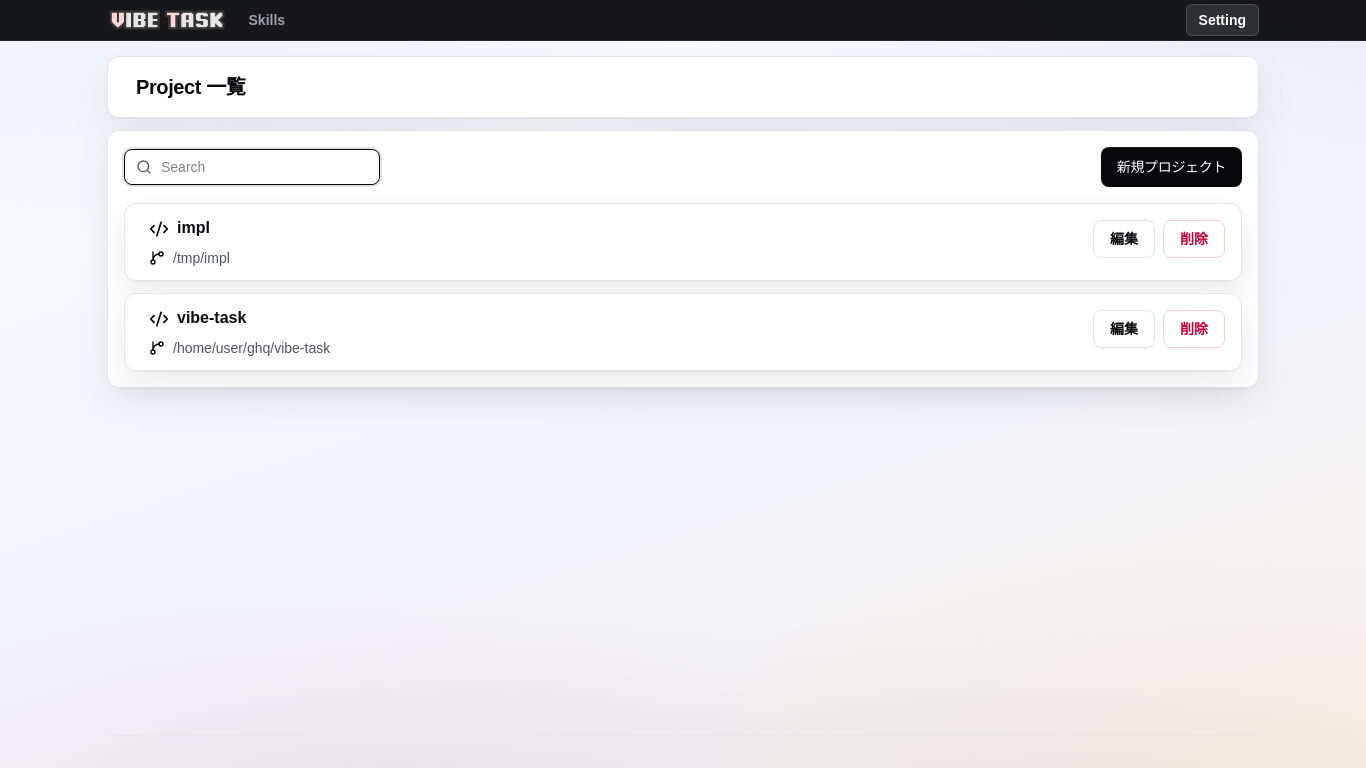
filters project list incrementally by search query
Expected: the text "impl" is shown, [177, 216, 210, 240]
Expected: the text "vibe-task" is shown, [177, 306, 246, 330]
Type "vibe" into the search field labelled "Search" at (252, 167), box [124, 149, 380, 185]
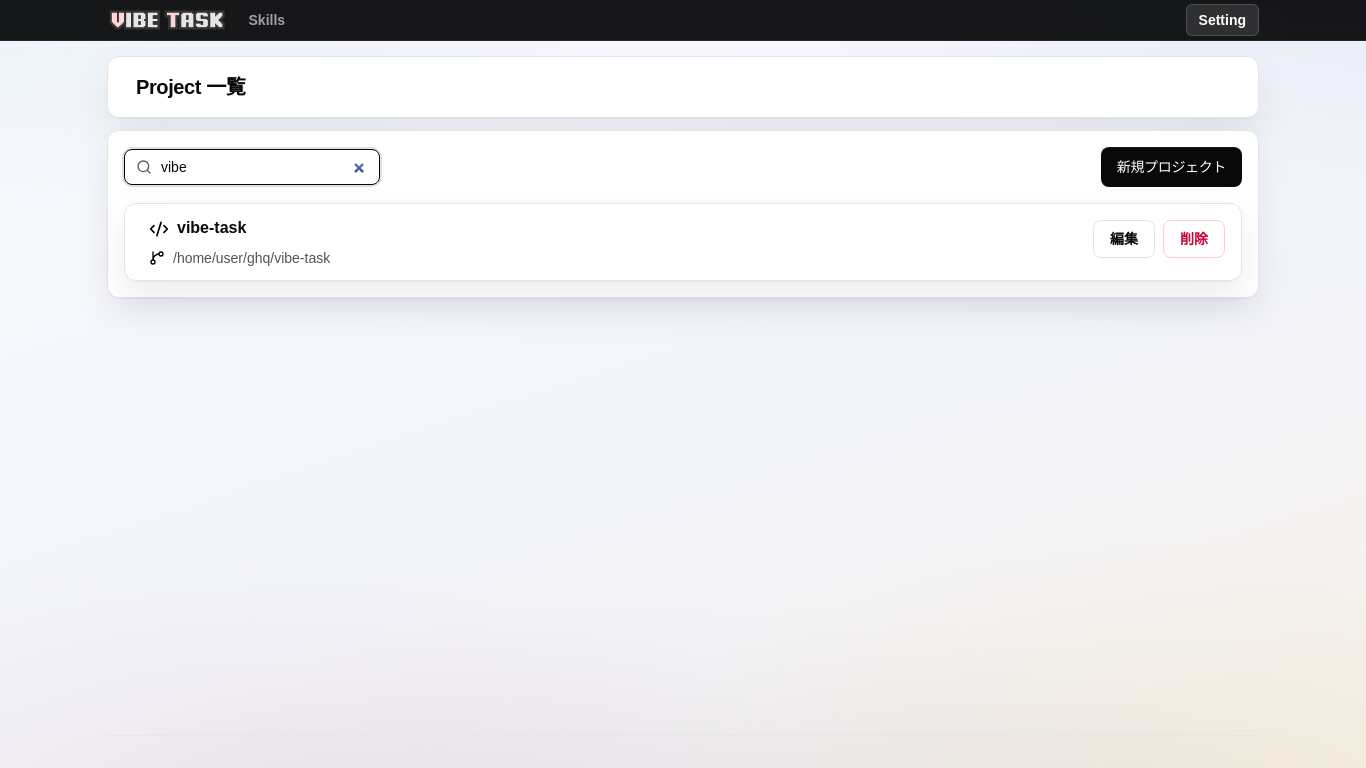
Expected: the text "vibe-task" is shown, [177, 216, 246, 240]
Now the link "impl" is gone
Replace the text in the search field named "Search" with "not-found" at (252, 167), box [124, 149, 380, 185]
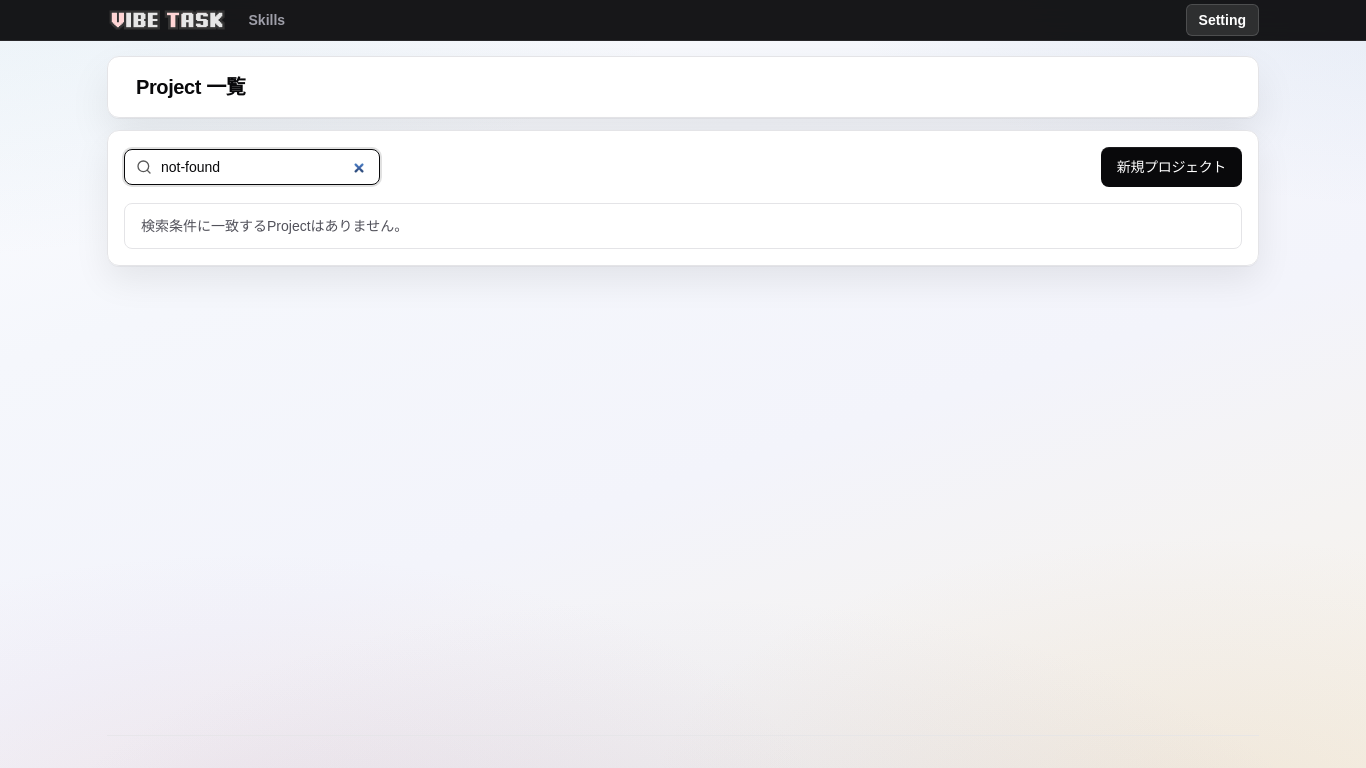
Now the text "検索条件に一致するProjectはありません。" is shown, box [124, 203, 1242, 249]
Replace the text in the search field named "Search" with "/tmp/impl" at (252, 167), box [124, 149, 380, 185]
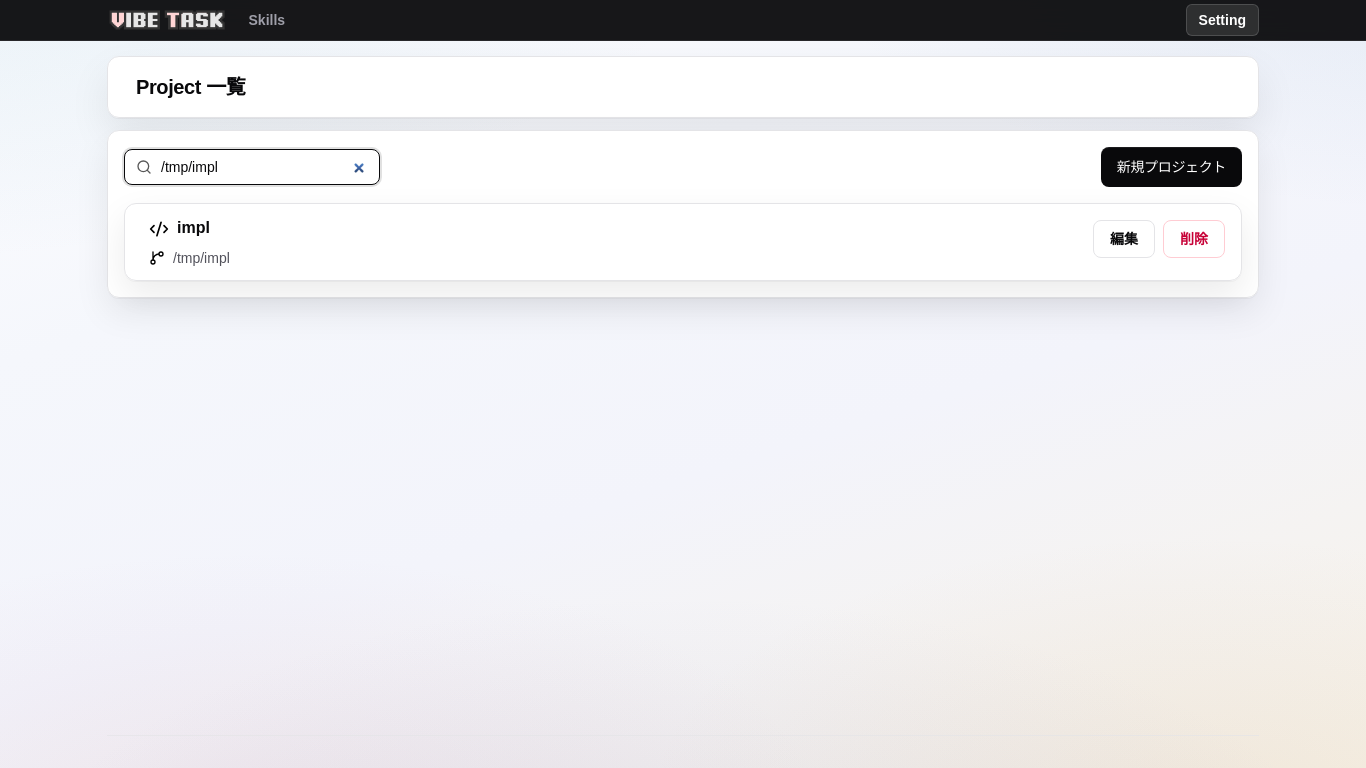
Expected: the link "vibe-task" is not shown
Now the text "impl" is shown, box [177, 216, 210, 240]
Clear the search field named "Search" at (252, 167), box [124, 149, 380, 185]
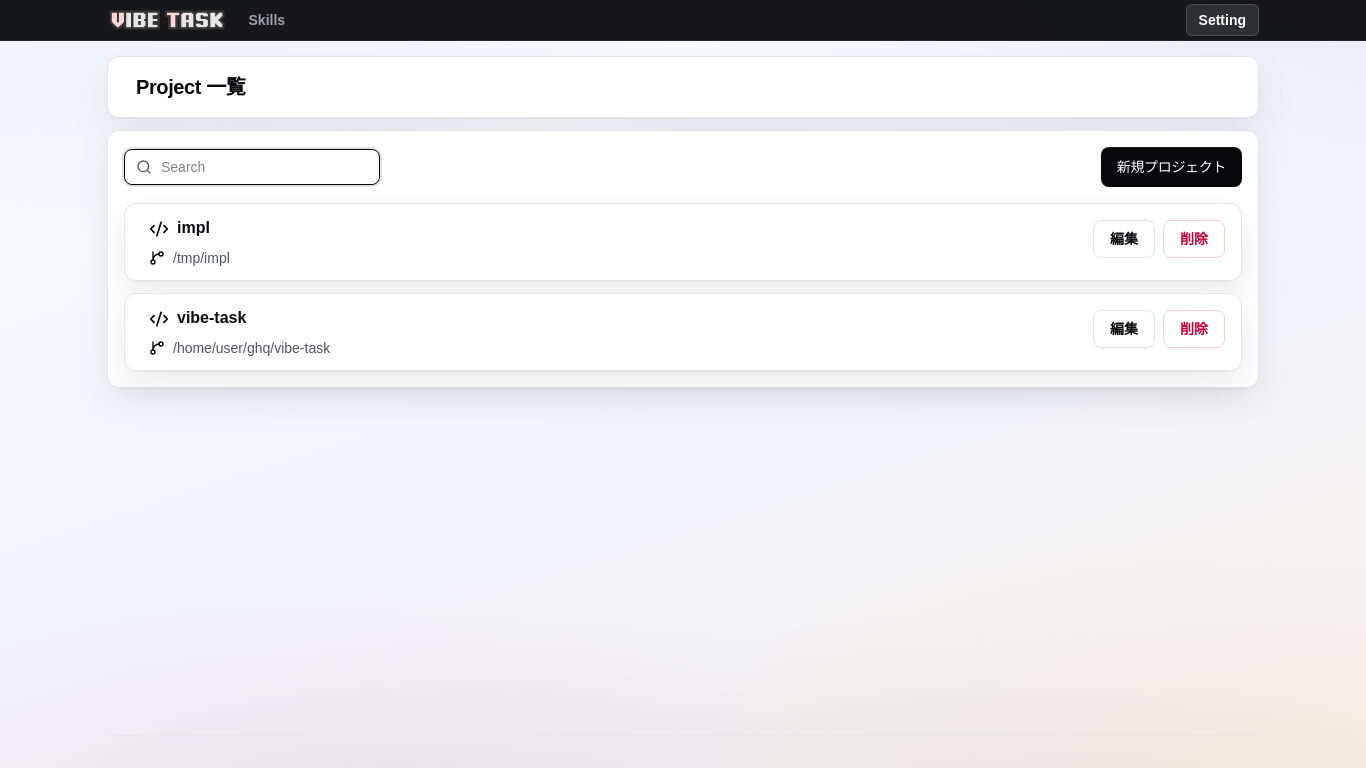
Now the text "impl" is shown, box [177, 216, 210, 240]
Now the text "vibe-task" is shown, box [177, 306, 246, 330]
